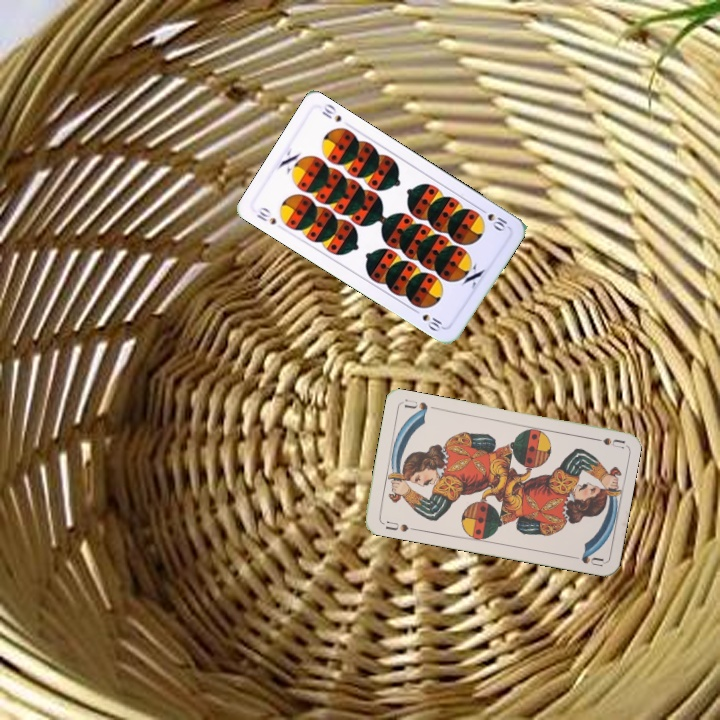S10: (473, 204, 511, 234), (253, 203, 279, 227)
SU: (585, 433, 626, 451), (378, 517, 418, 534)
